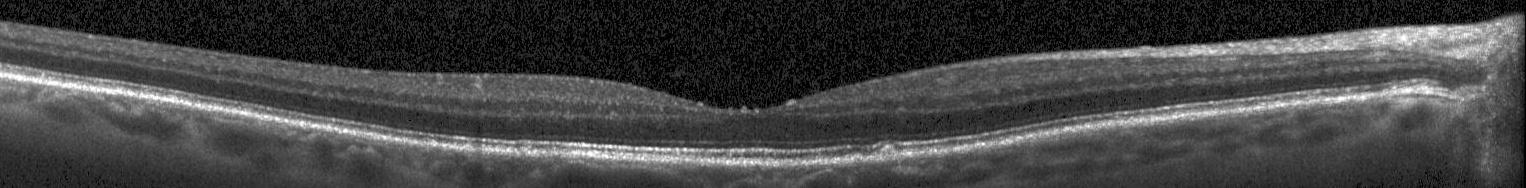retinal_drusen: (880, 147, 895, 161), (866, 157, 879, 164), (853, 156, 864, 164)
